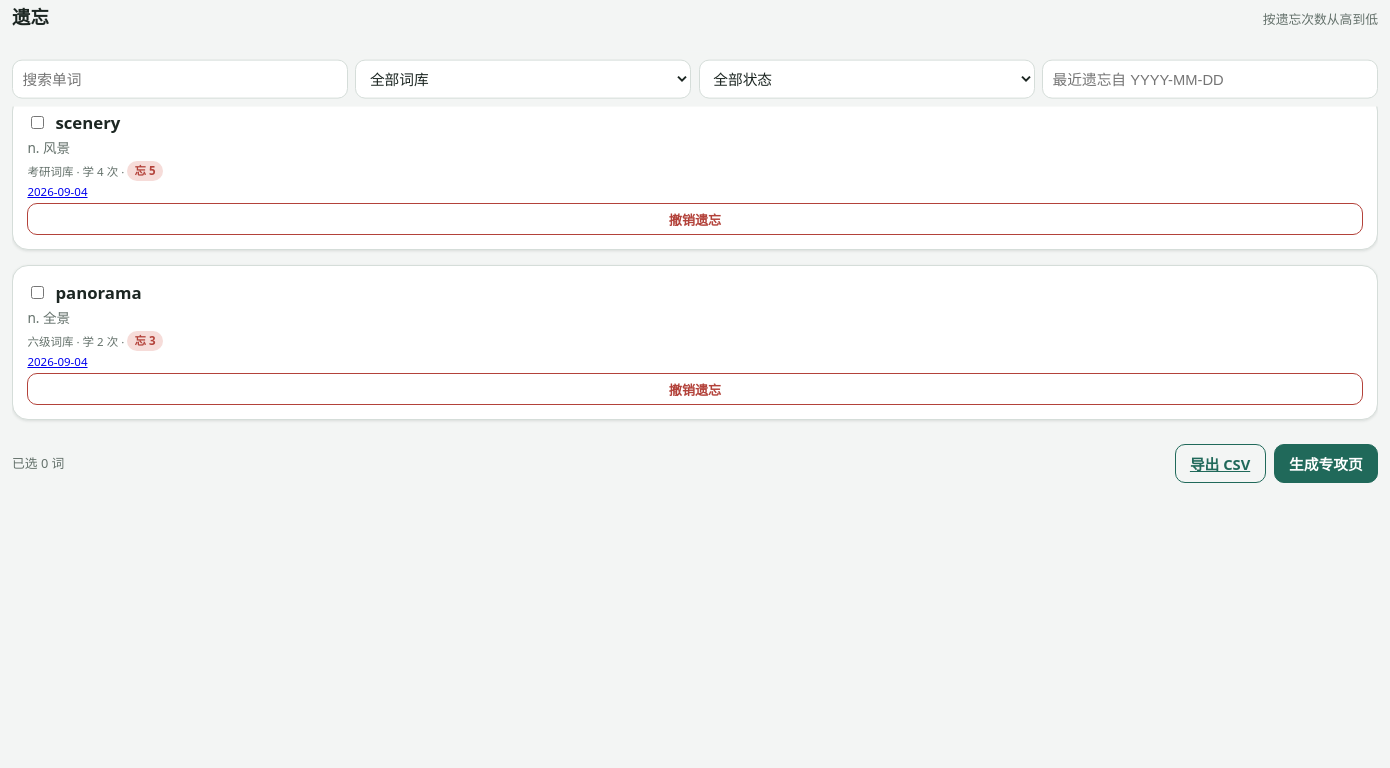
Scenario: 遗忘词入口 › 未勾选单词时提示至少选择一个
Step 1. Click the button "生成专攻页" → (1326, 464), box [1274,444,1378,483]
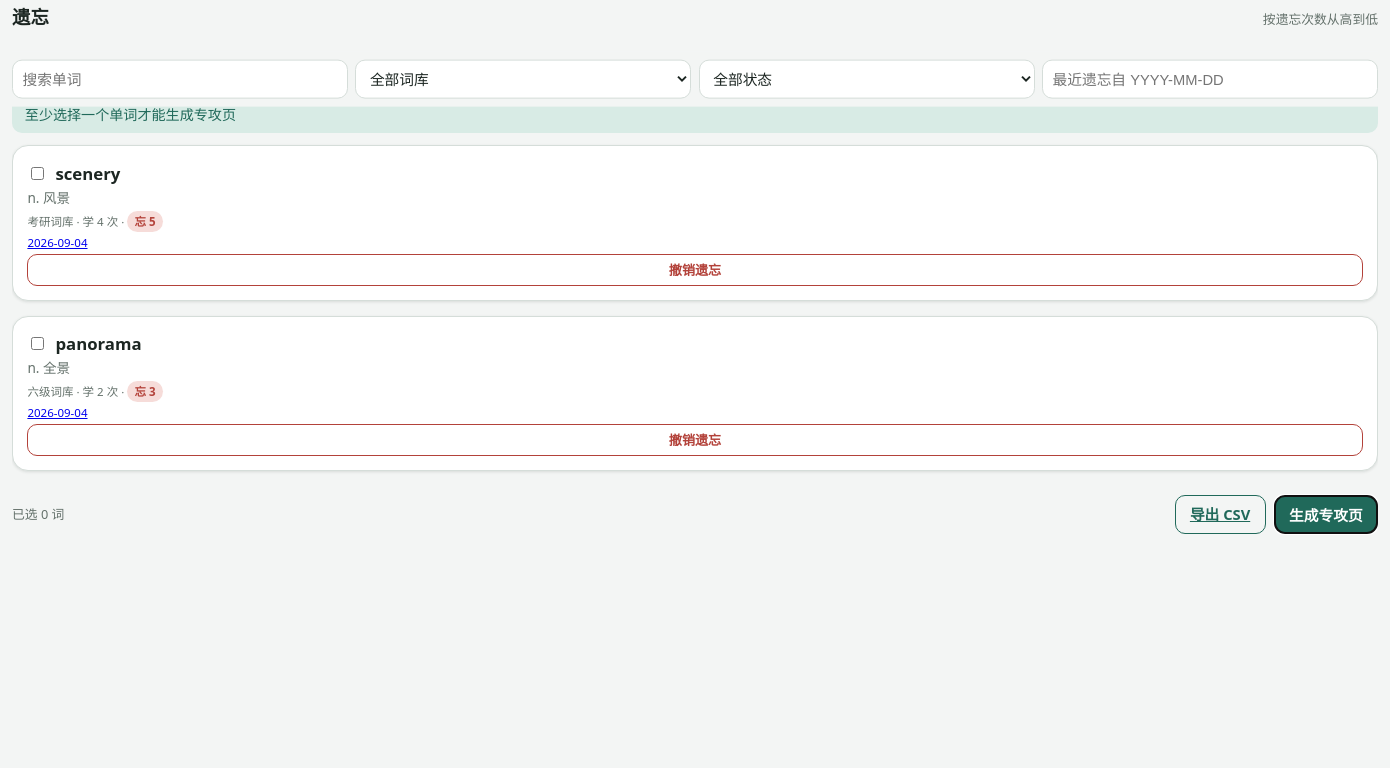
Check: the text "至少选择一个单词才能生成专攻页" is shown, box [12,95,1378,134]
